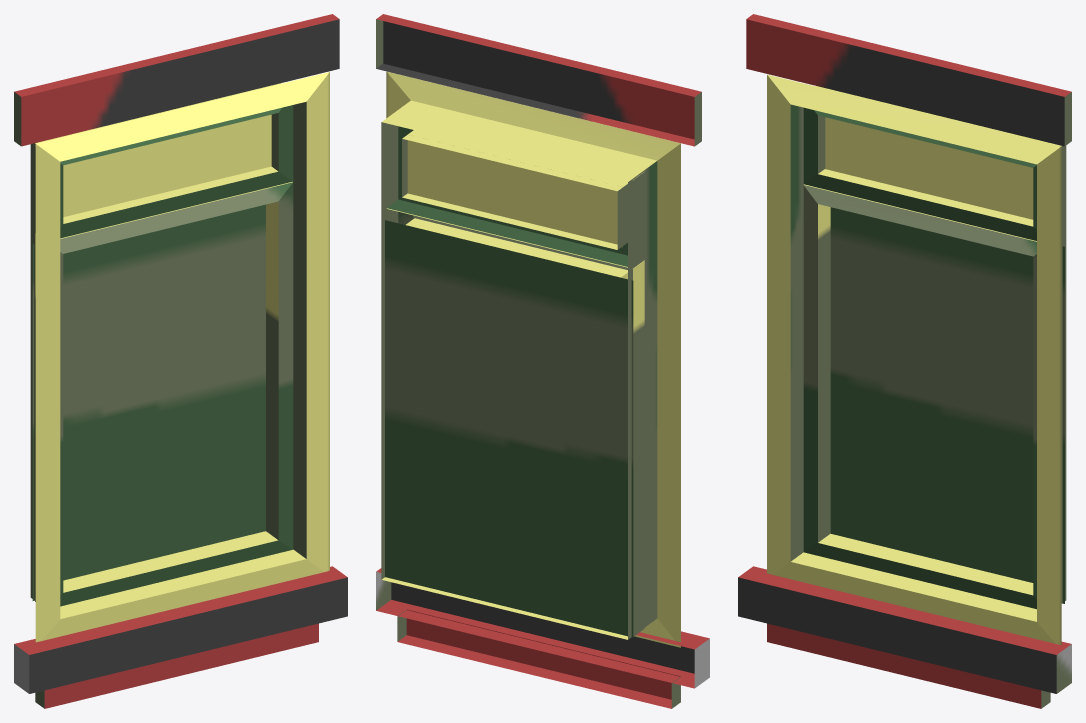
The model's file is 3W_3F_building_window.fbx.
3 views of the same model, side by side, from view 1: azimuth 30°, elevation 25°; view 2: azimuth 150°, elevation 25°; view 3: azimuth 330°, elevation 25° (orthographic).
Parts seen in each view (by area): view 1: Object141; view 2: Object141; view 3: Object141.
Boxes of the visible parts, box(x1,y1,x2,y2) form: Object141: box(14, 14, 347, 708); Object141: box(376, 14, 709, 708); Object141: box(738, 14, 1071, 708).
Size of the model in its own units: 308 by 569 by 67.39.
